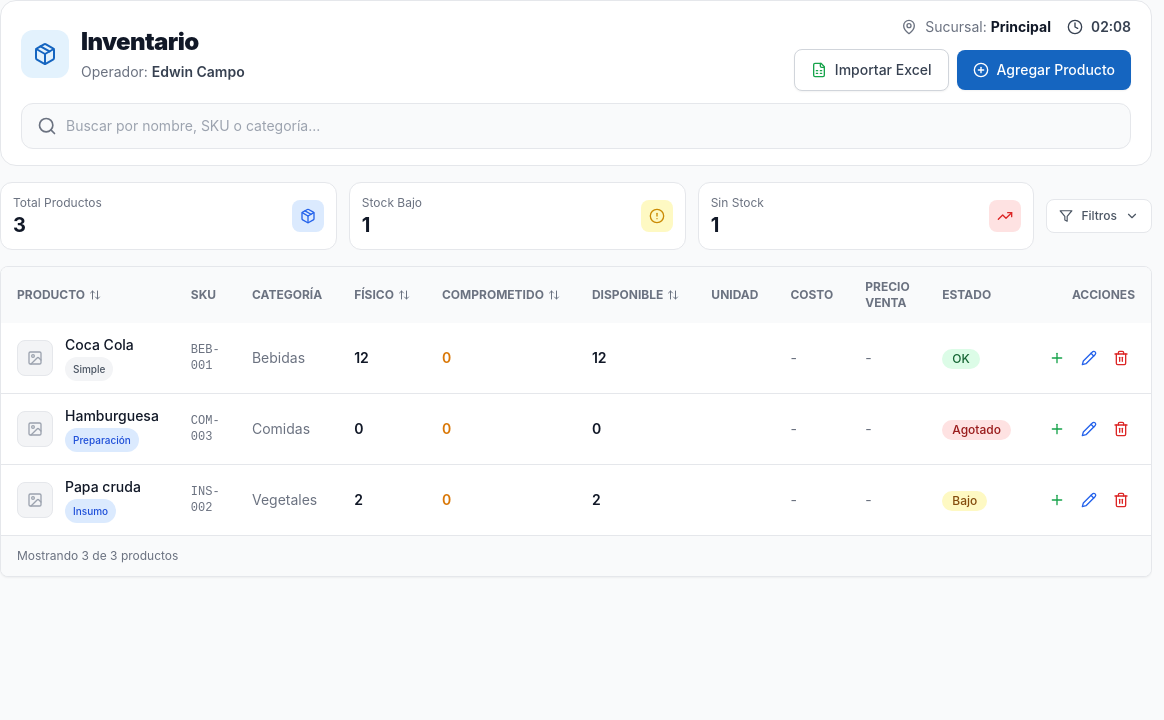
Test: Inventario: encabezado estilo POS con buscador › mantiene búsqueda por nombre/SKU/categoría sin distinguir mayúsculas: cOcA
The width and height of the screenshot is (1164, 720).
Expected: the text "Coca Cola" is shown, [65, 335, 134, 355]
Type "cOcA" into the search field named "Buscar en inventario" at coordinates (576, 126), box [21, 103, 1131, 149]
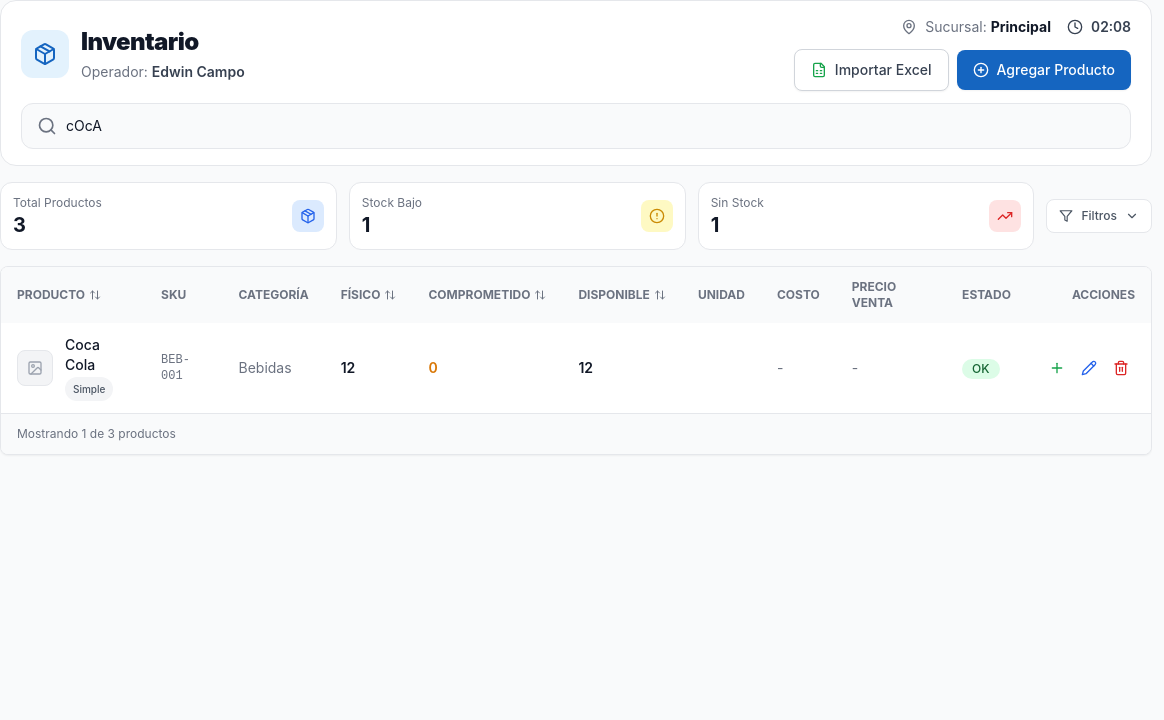
Now the text "Papa cruda" is gone
Now the text "Hamburguesa" is gone
Now the text "Mostrando 1 de 3 productos" is shown, box [1, 413, 1151, 454]
